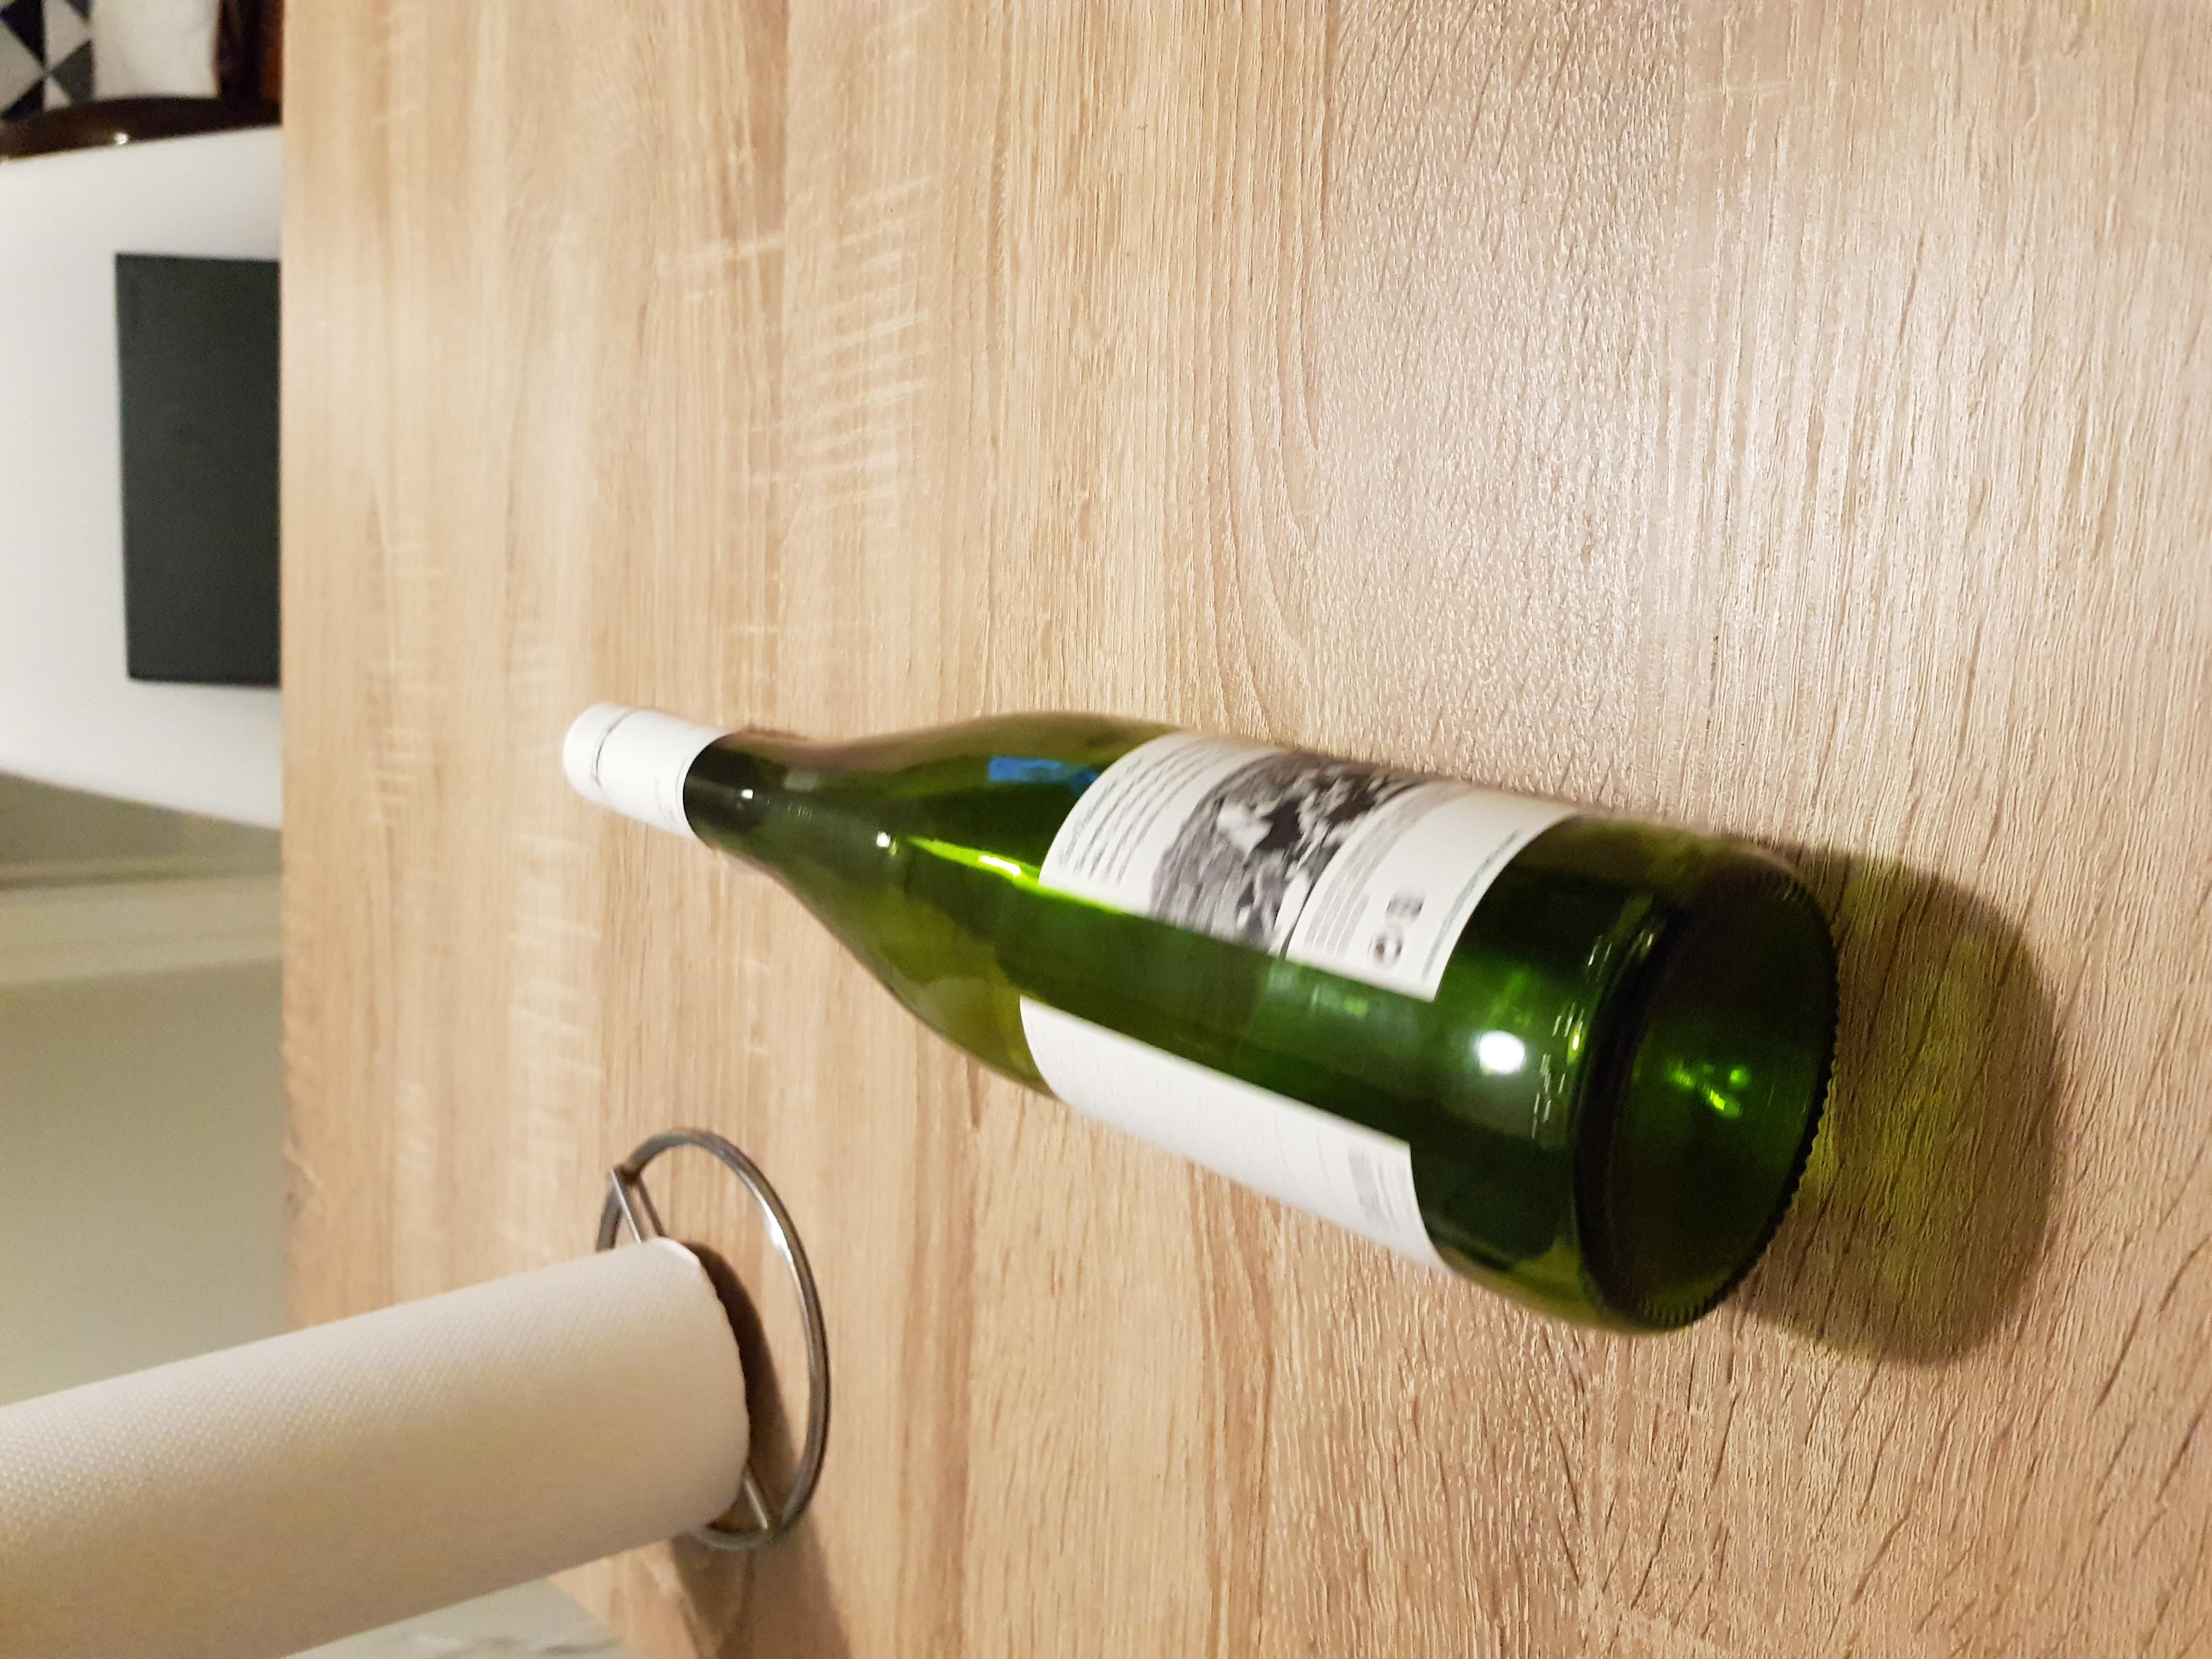Bottle: (559, 697, 1846, 1331)
